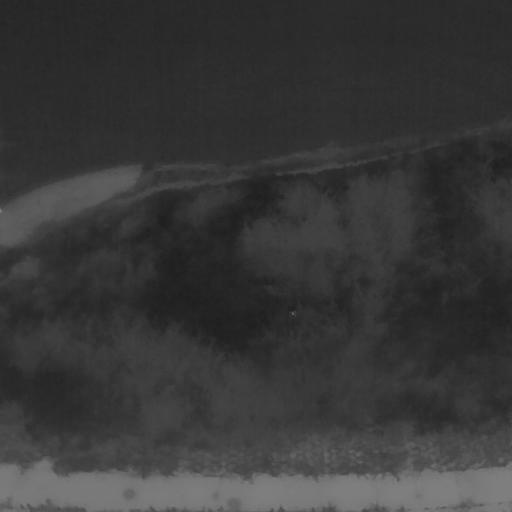uav: (290, 308, 301, 319)
